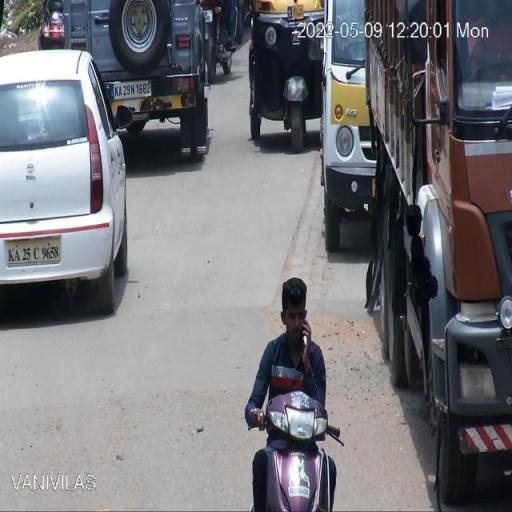using mobile: (301, 307, 311, 353)
